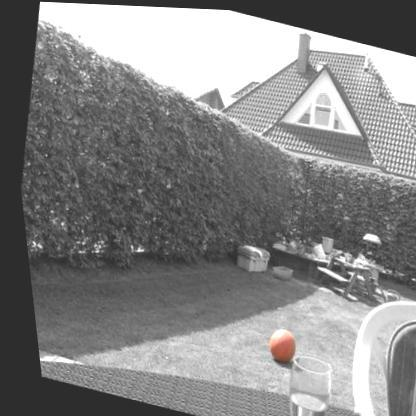basketball: (256, 324, 292, 365)
